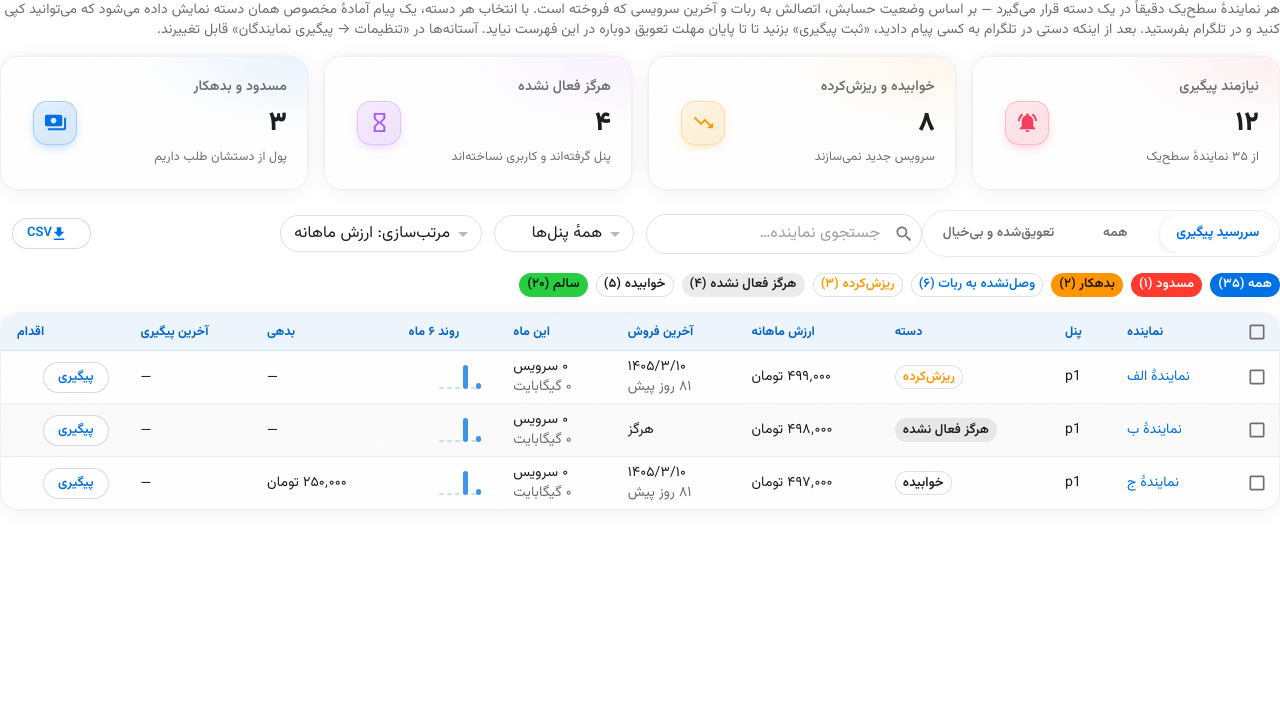
reseller follow-up board › opens the reseller card with its history and past follow-ups
Click the button "نمایندهٔ الف" at point(1158, 377), box top-left (1127, 367), bottom-right (1190, 387)
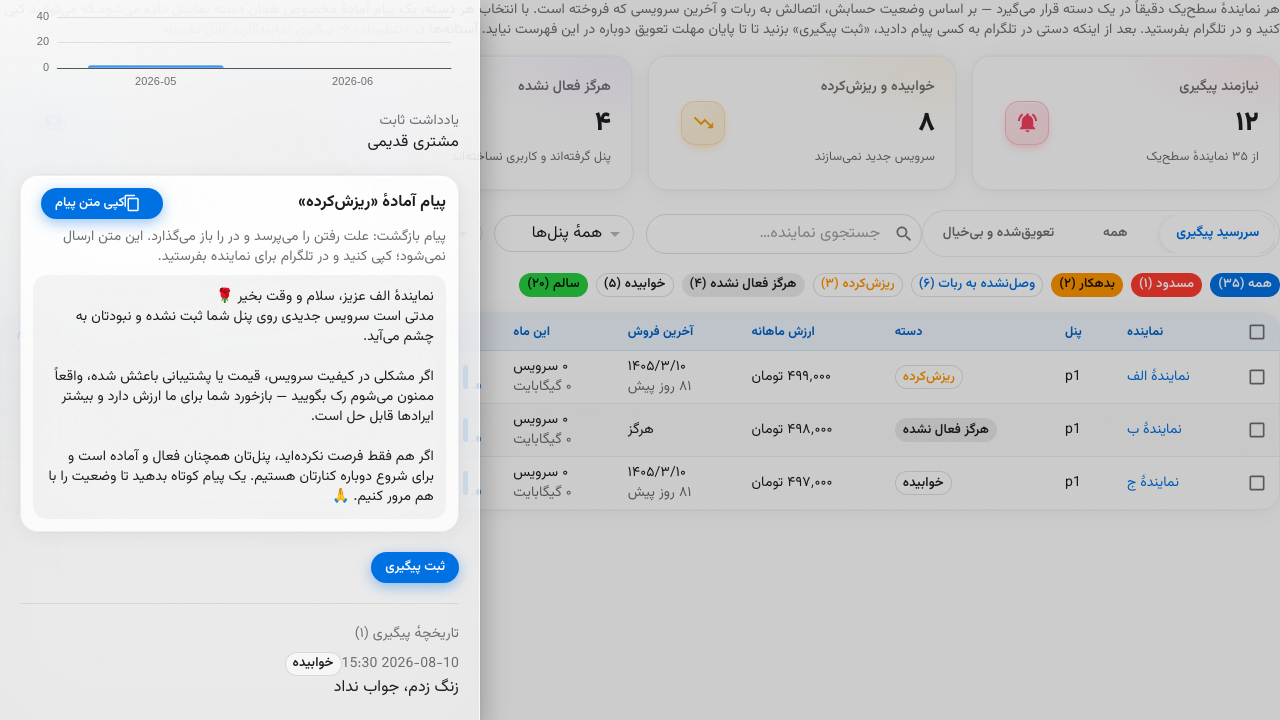
Now the text "مشتری قدیمی" is shown, box top-left (367, 130), bottom-right (459, 155)
Now the text "زنگ زدم، جواب نداد" is shown, box top-left (334, 675), bottom-right (459, 700)
